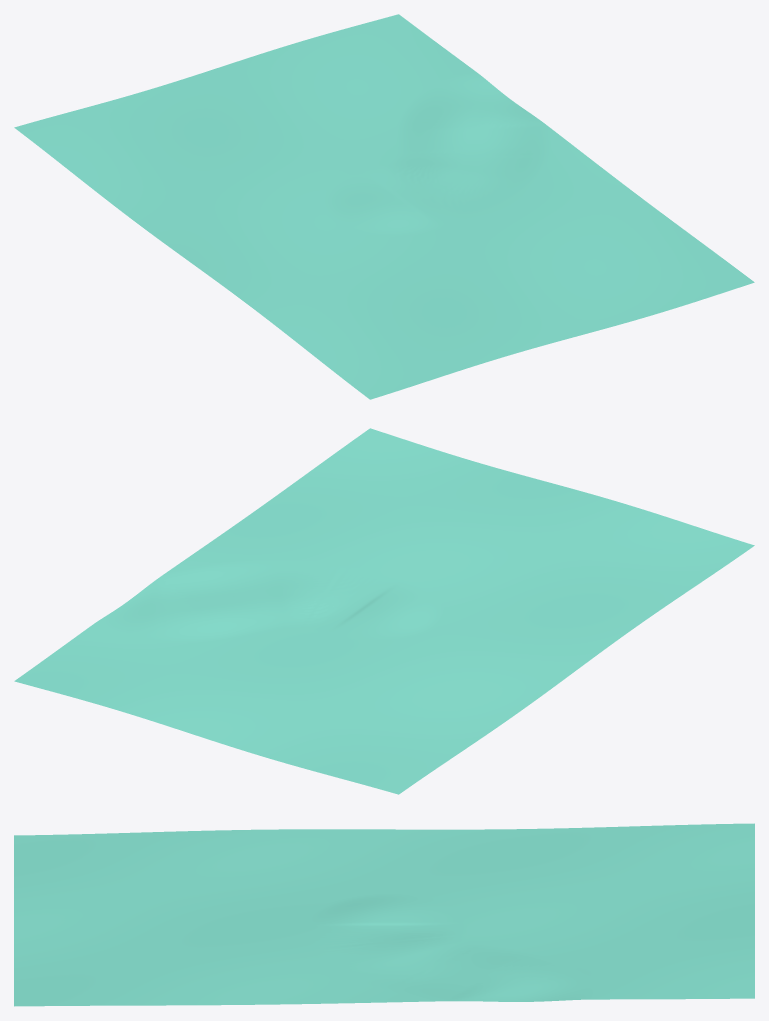
File: CandyTerrain.glb
The picture shows the model from 3 angles, top to bottom: view 1: azimuth 30°, elevation 25°; view 2: azimuth 150°, elevation 25°; view 3: azimuth 270°, elevation 25°; orthographic projection. The views are drawn at different scales.
Parts seen in each view (by area): view 1: terrain_4_2, terrain_3_1, terrain_0_2, terrain_1_0, terrain_2_0, terrain_1_2, terrain_2_1, terrain_4_0, terrain_3_2, terrain_0_1, terrain_0_0, terrain_2_2 (+12 smaller); view 2: terrain_0_1, terrain_4_1, terrain_1_0, terrain_3_2, terrain_2_0, terrain_2_2, terrain_1_2, terrain_3_1, terrain_1_1, terrain_4_0, terrain_0_0, terrain_0_2 (+12 smaller); view 3: terrain_3_0, terrain_0_0, terrain_1_1, terrain_2_1, terrain_2_2, terrain_4_0, terrain_4_2, terrain_0_2, terrain_3_2, terrain_1_2, terrain_4_1, terrain_0_1 (+12 smaller).
Part boxes in pixels (x1,y1,x2,y2): terrain_4_2: (496, 223, 672, 306); terrain_3_1: (320, 208, 495, 291); terrain_0_2: (238, 27, 413, 110); terrain_1_0: (79, 144, 254, 227); terrain_2_0: (143, 192, 319, 274); terrain_1_2: (303, 77, 478, 159); terrain_2_1: (255, 160, 431, 242); terrain_4_0: (273, 292, 448, 373); terrain_3_2: (432, 174, 607, 256); terrain_0_1: (126, 61, 301, 143); terrain_0_0: (14, 96, 189, 177); terrain_2_2: (367, 126, 542, 208); terrain_0_1: (175, 683, 350, 763); terrain_4_1: (433, 501, 609, 580); terrain_1_0: (352, 670, 527, 750); terrain_3_2: (257, 512, 432, 591); terrain_2_0: (416, 626, 591, 705); terrain_2_2: (192, 558, 367, 637); terrain_1_2: (128, 604, 303, 683); terrain_3_1: (369, 546, 544, 625); terrain_1_1: (240, 638, 415, 716); terrain_4_0: (545, 533, 721, 611); terrain_0_0: (287, 716, 462, 794); terrain_0_2: (63, 650, 238, 728); terrain_3_0: (217, 829, 351, 882); terrain_0_0: (620, 823, 754, 876); terrain_1_1: (486, 876, 620, 929); terrain_2_1: (352, 877, 486, 930); terrain_2_2: (352, 929, 486, 981); terrain_4_0: (83, 830, 217, 882); terrain_4_2: (83, 932, 217, 984); terrain_0_2: (620, 925, 754, 977); terrain_3_2: (217, 930, 351, 981); terrain_1_2: (486, 927, 620, 978); terrain_4_1: (83, 882, 217, 934); terrain_0_1: (620, 876, 754, 927).
Size of the model in its own units: 880 by 67.75 by 1411.
